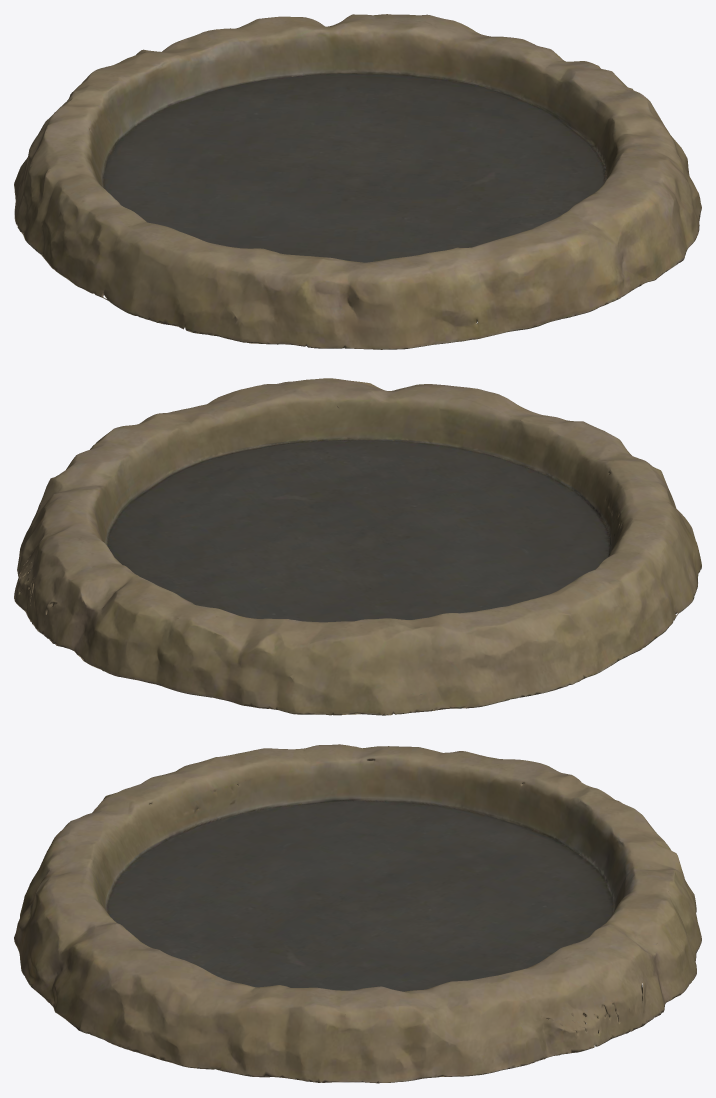
Rendered from OilPit.glb.
3 views of the same model, one above another, from view 1: azimuth 30°, elevation 25°; view 2: azimuth 150°, elevation 25°; view 3: azimuth 270°, elevation 25° (orthographic).
Visible parts, largest first — view 1: Mesh1.0; view 2: Mesh1.0; view 3: Mesh1.0.
Boxes of the visible parts, x1,y1,x2,y2 form: Mesh1.0: (14, 14, 701, 349); Mesh1.0: (14, 378, 701, 715); Mesh1.0: (14, 744, 701, 1083).
Size of the model in its own units: 1.99 by 0.2278 by 1.99.
1 material, 1 textured.
